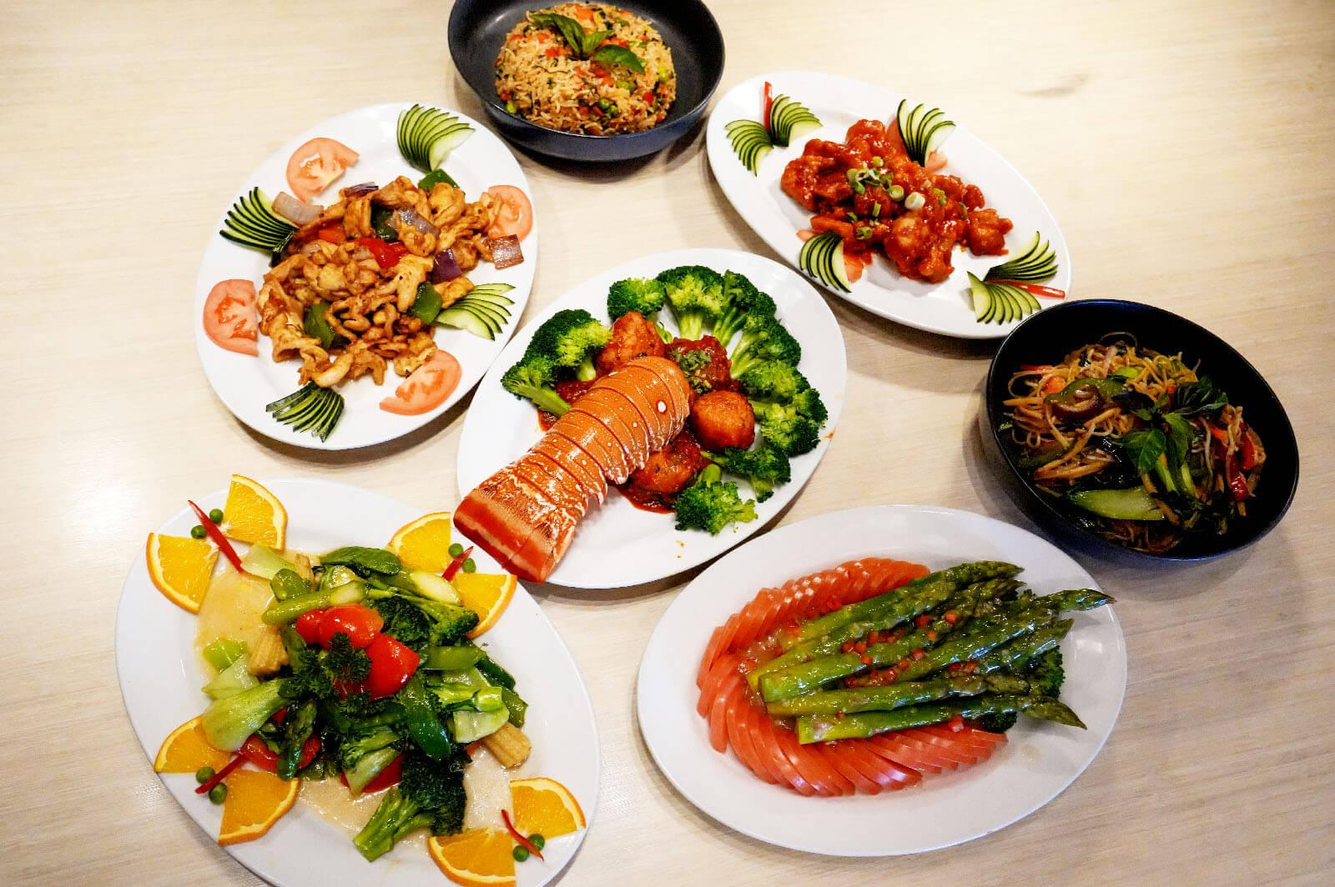Braised Crucian Carp: (113, 475, 607, 875), (652, 507, 1088, 854), (192, 101, 541, 454), (457, 251, 830, 575), (728, 75, 1055, 343), (985, 299, 1303, 564), (451, 1, 704, 164)
